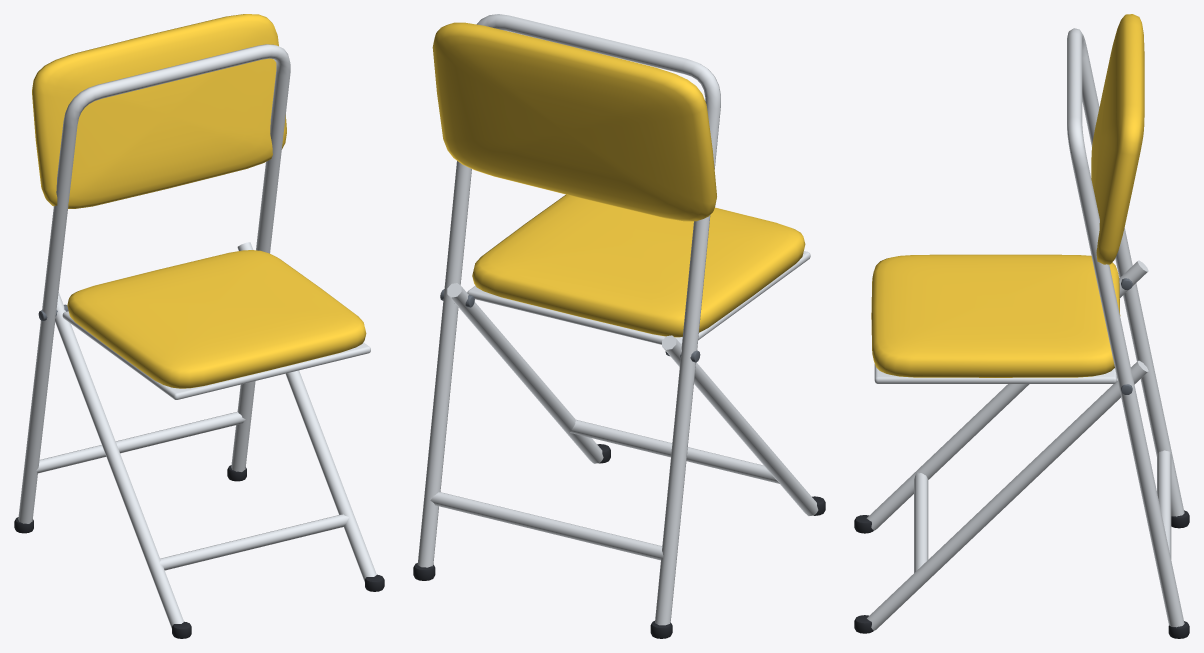
The model's file is cadeira_dobravel_amarela.glb.
The picture shows the model from 3 angles, left to right: view 1: azimuth 30°, elevation 25°; view 2: azimuth 150°, elevation 25°; view 3: azimuth 270°, elevation 25°; orthographic projection. The views are drawn at different scales.
Parts seen in each view (by area): view 1: cadeira_dobravel_amarela; view 2: cadeira_dobravel_amarela; view 3: cadeira_dobravel_amarela.
Boxes of the visible parts, left/top/right/bottom form: cadeira_dobravel_amarela: left=14, top=14, right=384, bottom=638; cadeira_dobravel_amarela: left=413, top=14, right=825, bottom=638; cadeira_dobravel_amarela: left=854, top=14, right=1189, bottom=638.
Bounding box in the file's own units: 0.46 × 0.8706 × 0.512.
1 material, 1 textured.
